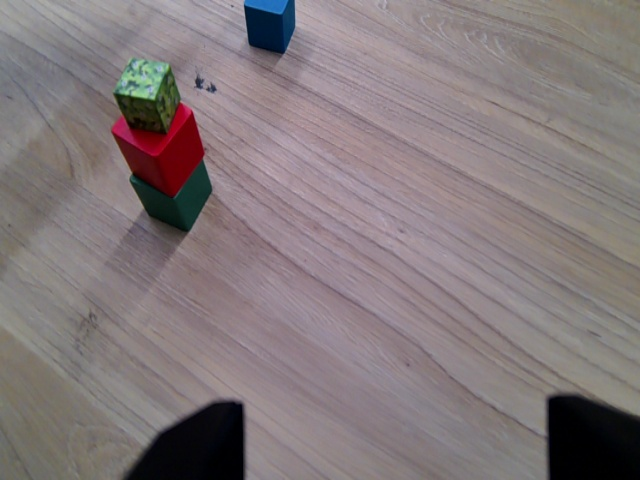grass: (118, 55, 178, 130)
